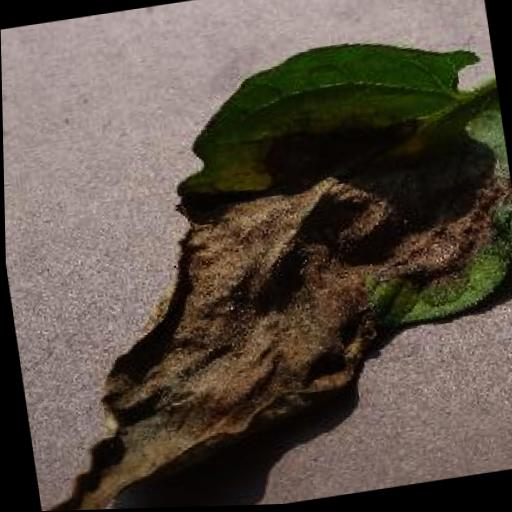Late Blight: (1, 18, 512, 512)
